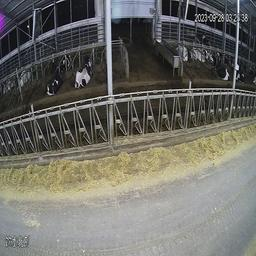cow: (75, 50, 97, 95), (46, 60, 63, 95), (213, 52, 230, 81), (191, 39, 206, 65), (59, 50, 72, 73), (179, 39, 190, 65), (237, 68, 247, 86)
